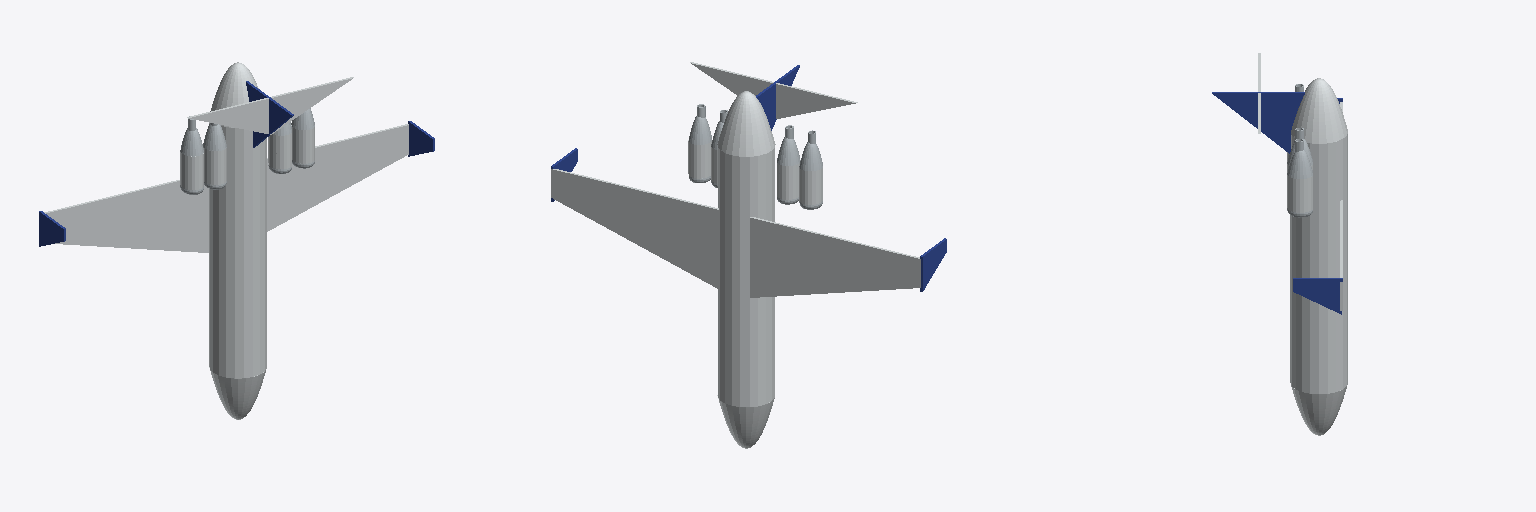
Rendered from tinker.obj.
The picture shows the model from 3 angles: view 1: azimuth 30°, elevation 25°; view 2: azimuth 150°, elevation 25°; view 3: azimuth 270°, elevation 25°; orthographic projection.
Visible parts, largest first — view 1: obj_0; view 2: obj_0; view 3: obj_0.
Boxes of the visible parts, x1=… form: obj_0: x1=39, y1=62, x2=434, y2=419; obj_0: x1=551, y1=62, x2=946, y2=448; obj_0: x1=1212, y1=53, x2=1347, y2=435.
Size of the model in its own units: 148 by 135 by 47.